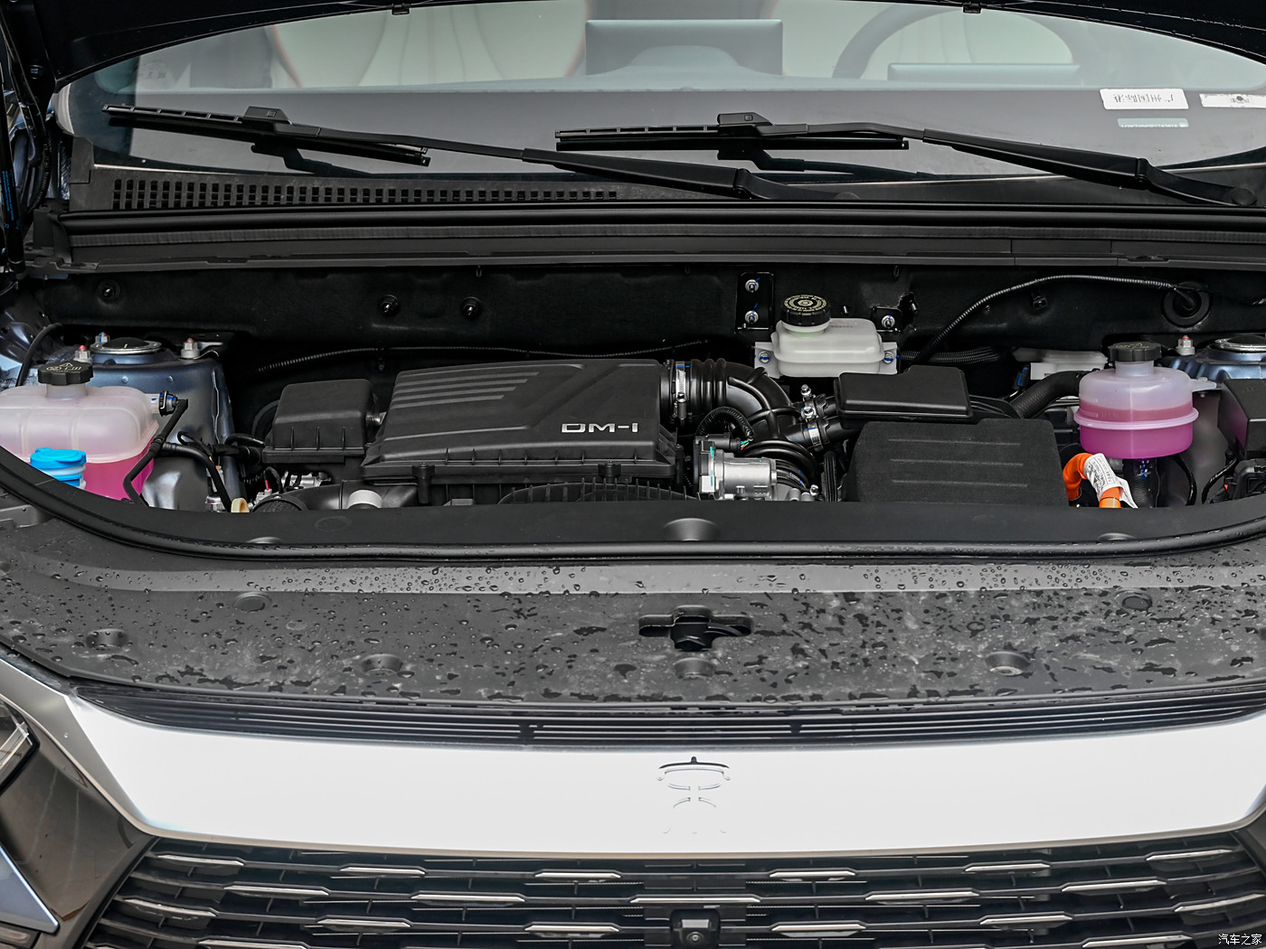BYD Song: (657, 756, 731, 833)
